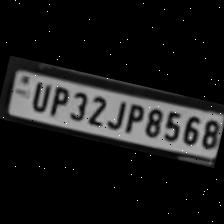2: (83, 91, 109, 128)
3: (64, 86, 90, 124)
5: (158, 107, 184, 144)
6: (177, 111, 203, 146)
8: (139, 102, 165, 140), (196, 116, 222, 151)
J: (102, 94, 127, 131)
P: (44, 82, 72, 120), (120, 100, 146, 136)
U: (25, 77, 52, 113)
